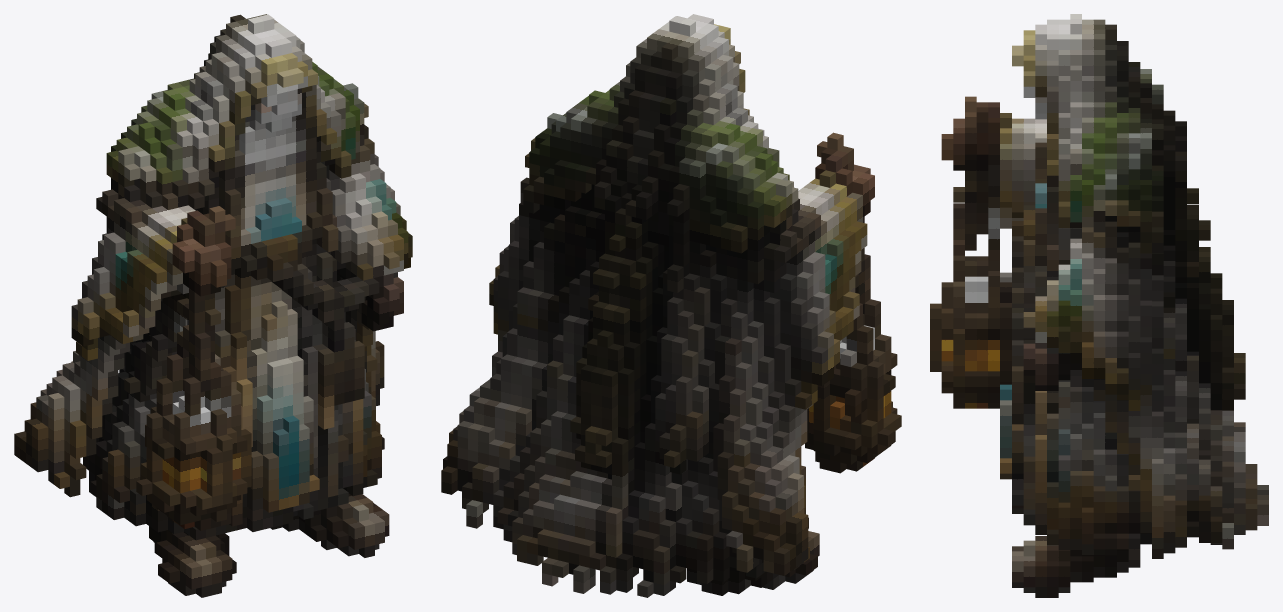
The model's file is u_penitente.glb.
3 renders of one model, left to right at view 1: azimuth 30°, elevation 25°; view 2: azimuth 150°, elevation 25°; view 3: azimuth 270°, elevation 25°, orthographic. The views are drawn at different scales.
Parts seen in each view (by area): view 1: penitente_body; view 2: penitente_body; view 3: penitente_body.
Boxes of the visible parts, x1,y1,x2,y2 form: penitente_body: (14,14,412,597); penitente_body: (441,14,901,597); penitente_body: (930,14,1268,597).
Size of the model in its own units: 1.01 by 1.48 by 0.8609.
1 material, 1 textured.
